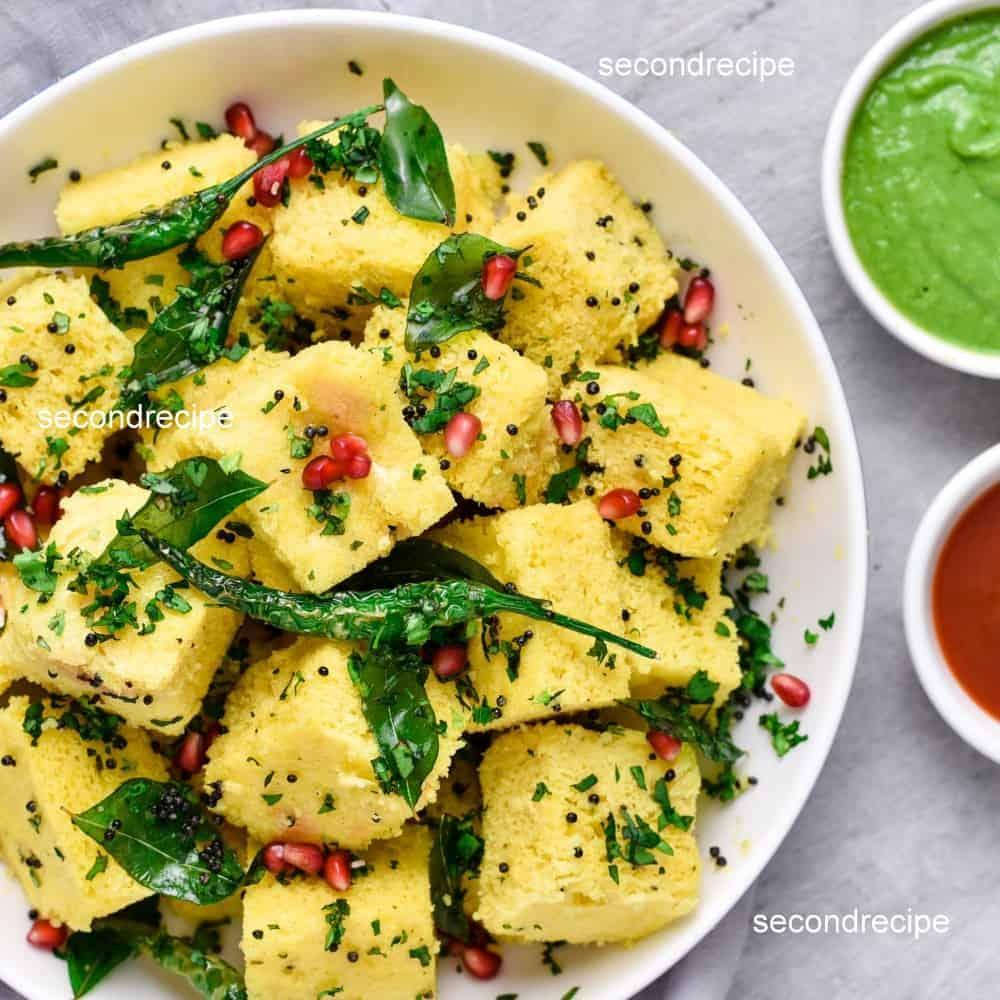dhokla: (12, 101, 808, 1000)
